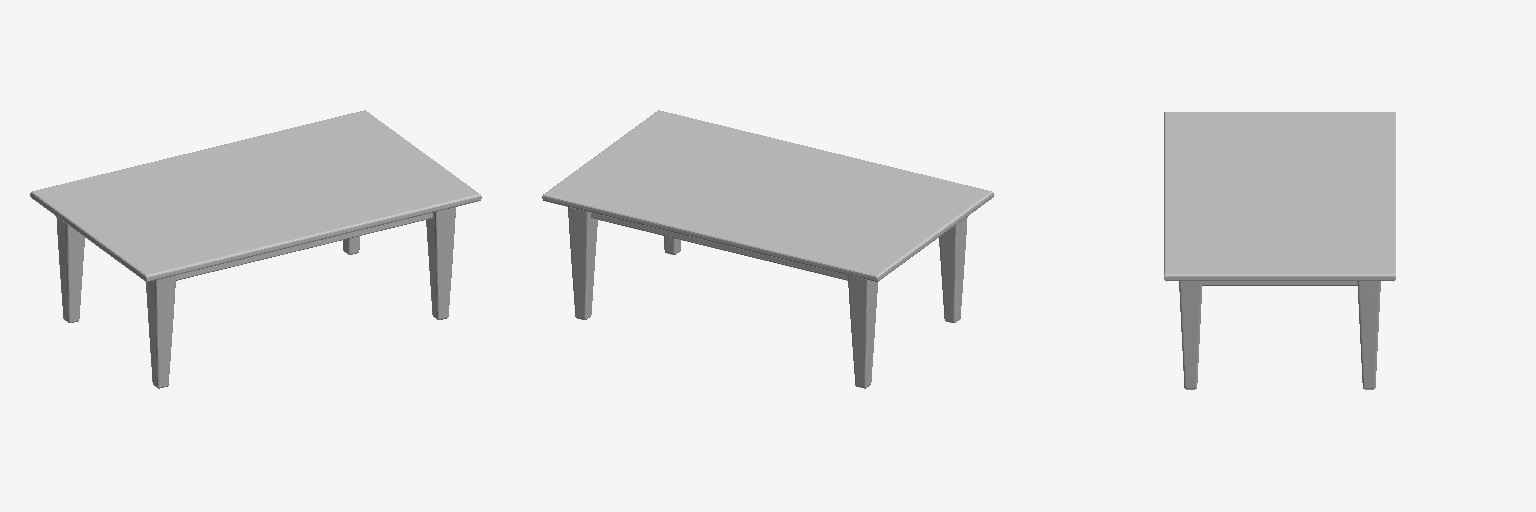
The model's file is Table.obj.
3 views of the same model, side by side, from view 1: azimuth 30°, elevation 25°; view 2: azimuth 150°, elevation 25°; view 3: azimuth 270°, elevation 25° (orthographic).
Parts seen in each view (by area): view 1: Cube; view 2: Cube; view 3: Cube.
Part boxes in pixels (x1,y1,x2,y2): Cube: (30,110,481,388); Cube: (542,110,993,388); Cube: (1164,112,1395,389).
Bounding box in the file's own units: 200 × 72 × 120.